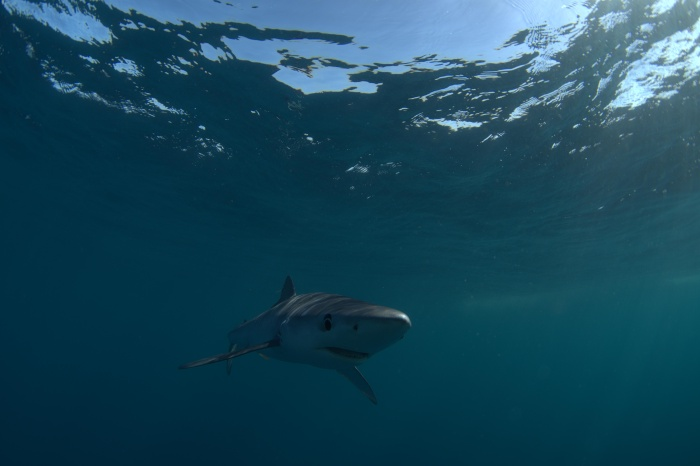Azul: (185, 267, 422, 412)
